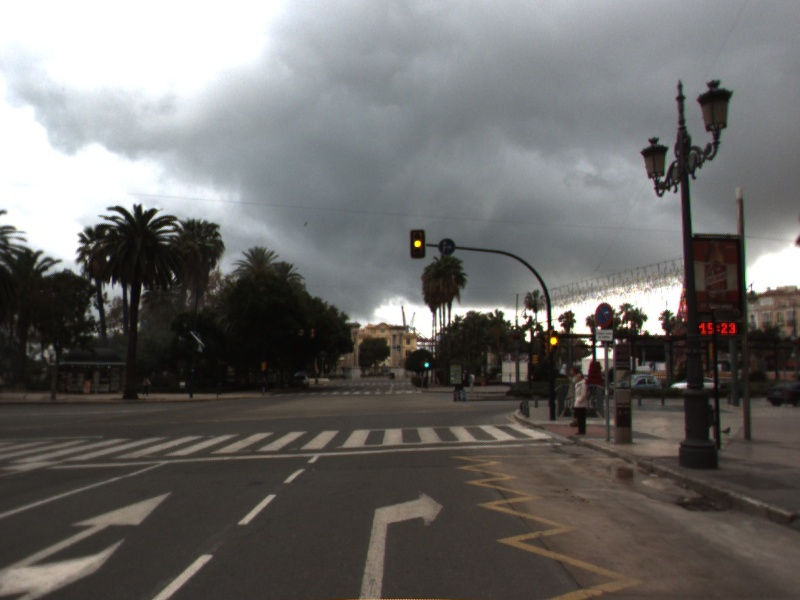RIGHT: (355, 484, 447, 600)
STRAIGHT_RIGHT: (1, 486, 177, 600)
